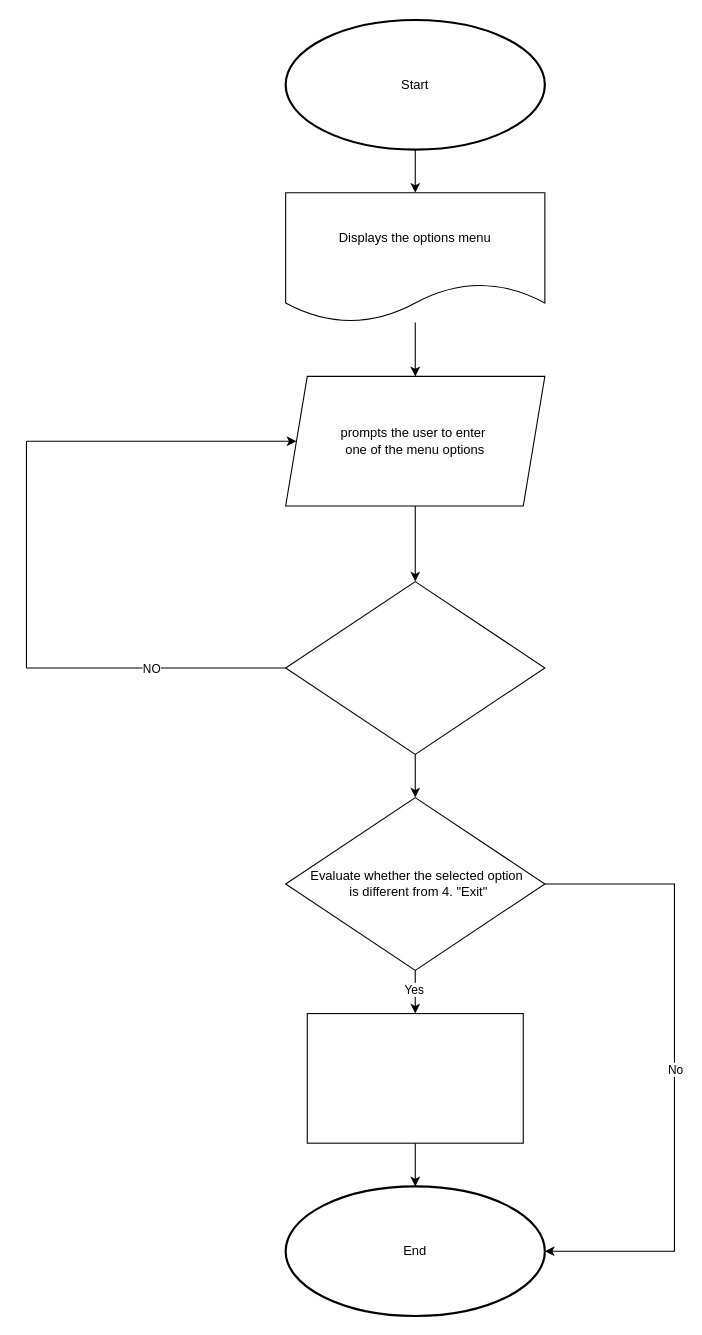
This 702x1335 diagram has some shape labels left out. Each missing label, with the box of its shape:
Check if the chosen option is within the menu: (285, 580, 545, 754)
Execute the function according to the selected option: (306, 1013, 523, 1143)
